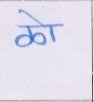e_matra: (19, 9, 44, 24)
